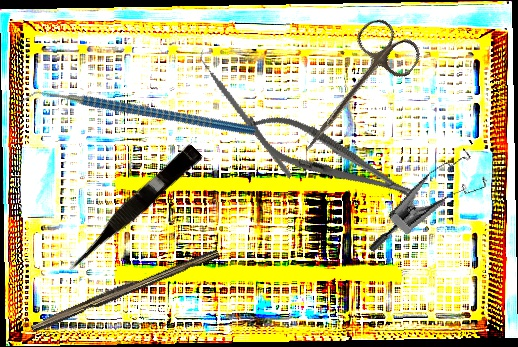Chopper: (17, 21, 257, 210), (170, 45, 324, 179)
Iris Scissors: (283, 12, 426, 173)
Micro Scissor: (59, 140, 204, 277)
Needle Holder: (236, 100, 427, 219)
Scalpel Handle: (29, 243, 220, 336)
Speculum: (366, 133, 498, 285)
